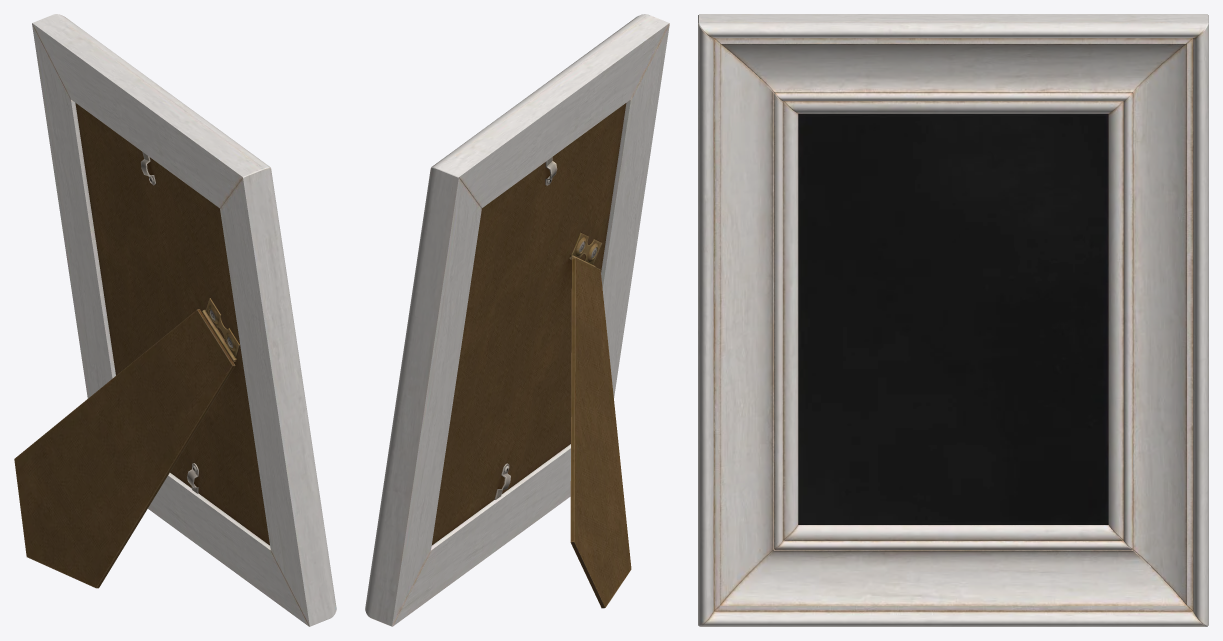
File: standing_picture_frame_02.glb
3 views of the same model, side by side, from view 1: azimuth 30°, elevation 25°; view 2: azimuth 150°, elevation 25°; view 3: azimuth 270°, elevation 25° (orthographic). The views are drawn at different scales.
Parts seen in each view (by area): view 1: standing_picture_frame_02; view 2: standing_picture_frame_02; view 3: standing_picture_frame_02.
Part boxes in pixels (x1=…): standing_picture_frame_02: x1=14, y1=14, x2=336, y2=626; standing_picture_frame_02: x1=365, y1=14, x2=669, y2=626; standing_picture_frame_02: x1=698, y1=14, x2=1208, y2=626.
Bounding box in the file's own units: 0.1023 × 0.2664 × 0.2169.
3 materials, 3 textured.
